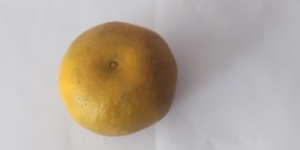BAD: (56, 19, 176, 138)
